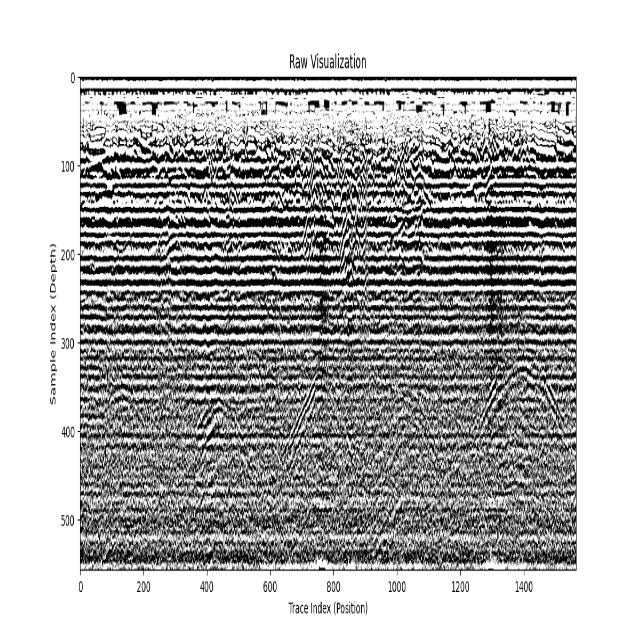anomaly: (172, 389, 268, 552), (278, 370, 359, 527), (475, 350, 574, 465), (375, 395, 443, 546)
